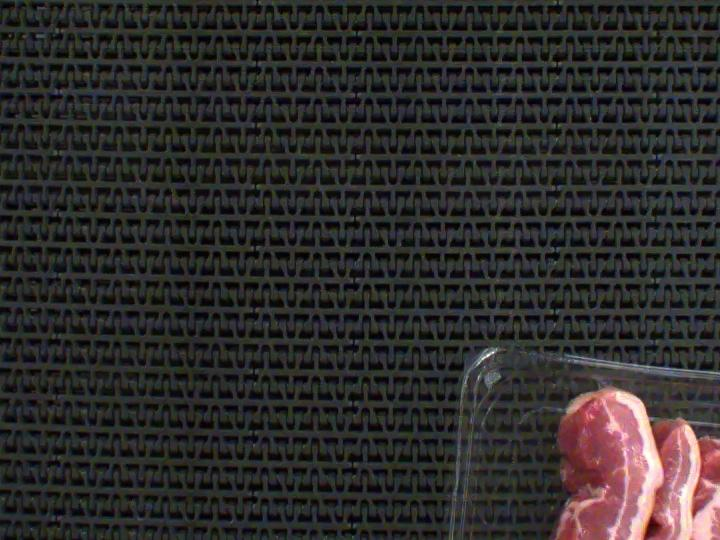packaging-error: (594, 372, 644, 396)
